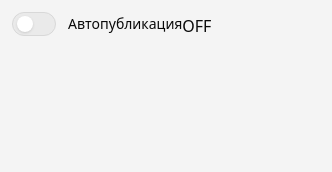
Test case: Milestone 1 Stress Tests: Nothing UI & Shared Foundations › 3. Toggle Event Propagation & State Switch › switches state when label text is clicked
Click the text "Автопубликация": x=125, y=24 [68, 14, 182, 34]
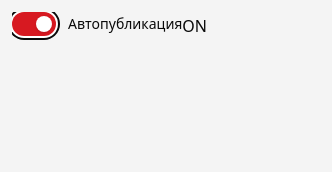
Expected: the text with test id "state" reads "ON", [182, 15, 207, 37]
